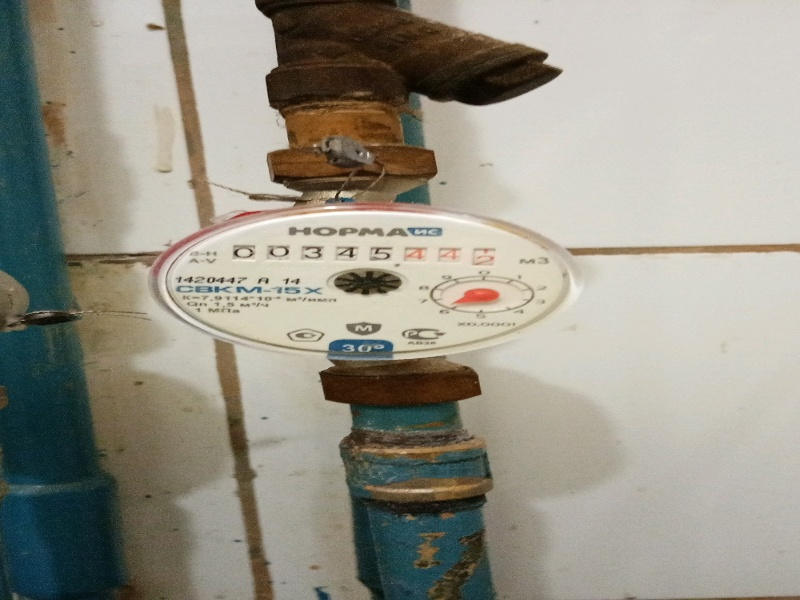meter: (226, 236, 500, 271)
